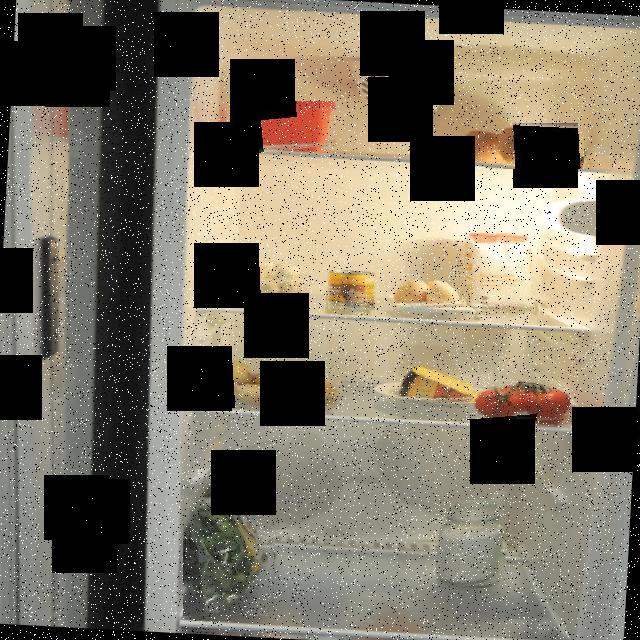butter: (230, 101, 336, 156)
cheese: (395, 366, 493, 406)
corn: (324, 266, 376, 310)
eggs: (394, 279, 463, 312)
mushrooms: (215, 257, 310, 305)
potato: (216, 356, 342, 408)
spinach: (184, 470, 282, 616)
sugar: (436, 500, 510, 590), (455, 233, 535, 314)
sweet_potato: (452, 118, 584, 170)
tomato: (472, 381, 570, 426)
